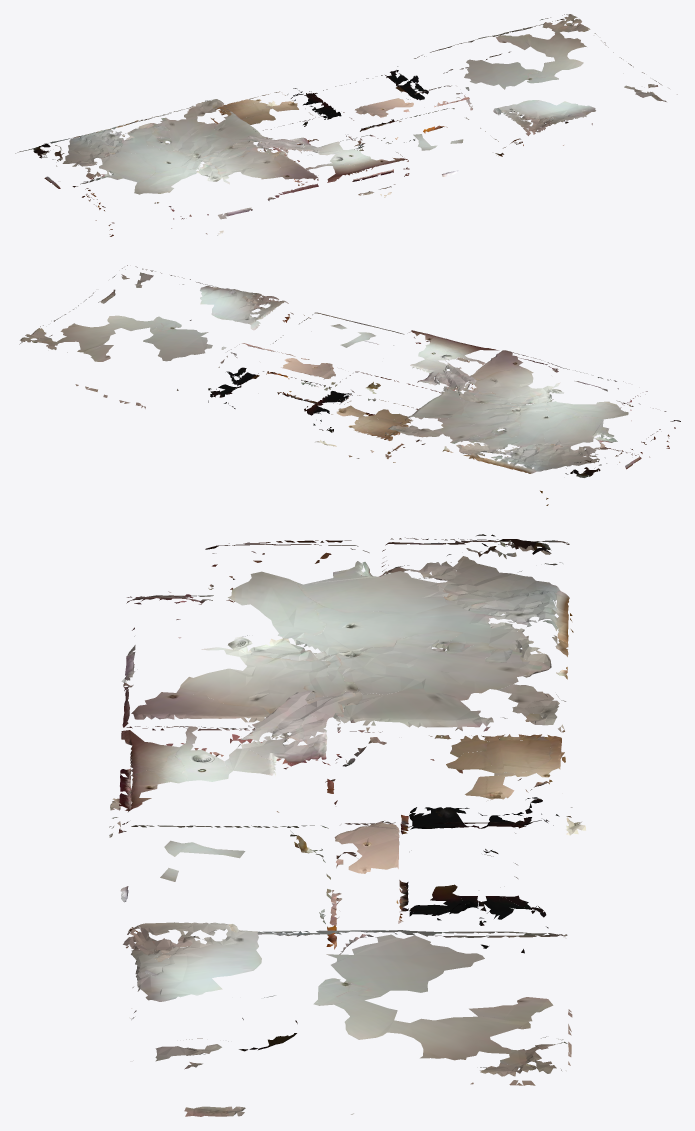
Rendered from esc_alta_techo_08.glb.
3 renders of one model, top to bottom at view 1: azimuth 30°, elevation 25°; view 2: azimuth 150°, elevation 25°; view 3: azimuth 270°, elevation 25°, orthographic. The views are drawn at different scales.
Parts seen in each view (by area): view 1: techo_Apartamento_y_bodega_8_GLTF_4, techo_Apartamento_y_bodega_8_GLTF_6, techo_Apartamento_y_bodega_8_GLTF_7, techo_Apartamento_y_bodega_8_GLTF, techo_Apartamento_y_bodega_8_GLTF_1, techo_Apartamento_y_bodega_8_GLTF_8, techo_Apartamento_y_bodega_8_GLTF_11, techo_Apartamento_y_bodega_8_GLTF_5, techo_Apartamento_y_bodega_8_GLTF_2, techo_Apartamento_y_bodega_8_GLTF_9, techo_Apartamento_y_bodega_8_GLTF_10, techo_Apartamento_y_bodega_8_GLTF_3; view 2: techo_Apartamento_y_bodega_8_GLTF_4, techo_Apartamento_y_bodega_8_GLTF_6, techo_Apartamento_y_bodega_8_GLTF, techo_Apartamento_y_bodega_8_GLTF_7, techo_Apartamento_y_bodega_8_GLTF_1, techo_Apartamento_y_bodega_8_GLTF_8, techo_Apartamento_y_bodega_8_GLTF_11, techo_Apartamento_y_bodega_8_GLTF_2, techo_Apartamento_y_bodega_8_GLTF_9, techo_Apartamento_y_bodega_8_GLTF_5, techo_Apartamento_y_bodega_8_GLTF_10, techo_Apartamento_y_bodega_8_GLTF_3; view 3: techo_Apartamento_y_bodega_8_GLTF_4, techo_Apartamento_y_bodega_8_GLTF_6, techo_Apartamento_y_bodega_8_GLTF_7, techo_Apartamento_y_bodega_8_GLTF_1, techo_Apartamento_y_bodega_8_GLTF, techo_Apartamento_y_bodega_8_GLTF_8, techo_Apartamento_y_bodega_8_GLTF_11, techo_Apartamento_y_bodega_8_GLTF_5, techo_Apartamento_y_bodega_8_GLTF_2, techo_Apartamento_y_bodega_8_GLTF_9, techo_Apartamento_y_bodega_8_GLTF_10, techo_Apartamento_y_bodega_8_GLTF_3.
Boxes of the visible parts, x1,y1,x2,y2 form: techo_Apartamento_y_bodega_8_GLTF_4: (62,44,657,215); techo_Apartamento_y_bodega_8_GLTF_6: (86,14,590,207); techo_Apartamento_y_bodega_8_GLTF_7: (18,32,592,228); techo_Apartamento_y_bodega_8_GLTF: (33,66,498,183); techo_Apartamento_y_bodega_8_GLTF_1: (42,23,571,188); techo_Apartamento_y_bodega_8_GLTF_8: (82,51,662,203); techo_Apartamento_y_bodega_8_GLTF_11: (41,14,669,234); techo_Apartamento_y_bodega_8_GLTF_5: (108,85,677,236); techo_Apartamento_y_bodega_8_GLTF_2: (83,93,542,185); techo_Apartamento_y_bodega_8_GLTF_9: (73,33,652,215); techo_Apartamento_y_bodega_8_GLTF_10: (55,73,654,220); techo_Apartamento_y_bodega_8_GLTF_3: (15,26,535,236); techo_Apartamento_y_bodega_8_GLTF_4: (64,274,623,474); techo_Apartamento_y_bodega_8_GLTF_6: (19,327,680,452); techo_Apartamento_y_bodega_8_GLTF: (208,312,617,477); techo_Apartamento_y_bodega_8_GLTF_7: (57,283,647,505); techo_Apartamento_y_bodega_8_GLTF_1: (33,290,641,469); techo_Apartamento_y_bodega_8_GLTF_8: (75,275,655,462); techo_Apartamento_y_bodega_8_GLTF_11: (20,272,679,472); techo_Apartamento_y_bodega_8_GLTF_2: (125,269,523,441); techo_Apartamento_y_bodega_8_GLTF_9: (40,268,653,473); techo_Apartamento_y_bodega_8_GLTF_5: (102,265,669,448); techo_Apartamento_y_bodega_8_GLTF_10: (49,296,649,473); techo_Apartamento_y_bodega_8_GLTF_3: (67,324,644,443); techo_Apartamento_y_bodega_8_GLTF_4: (127,556,567,1114); techo_Apartamento_y_bodega_8_GLTF_6: (124,544,585,1076); techo_Apartamento_y_bodega_8_GLTF_7: (118,562,573,1060); techo_Apartamento_y_bodega_8_GLTF_1: (145,534,567,1070); techo_Apartamento_y_bodega_8_GLTF: (120,535,550,944); techo_Apartamento_y_bodega_8_GLTF_8: (112,540,571,1111); techo_Apartamento_y_bodega_8_GLTF_11: (109,534,571,1085); techo_Apartamento_y_bodega_8_GLTF_5: (109,571,521,1116); techo_Apartamento_y_bodega_8_GLTF_2: (131,565,512,1046); techo_Apartamento_y_bodega_8_GLTF_9: (123,538,569,1067); techo_Apartamento_y_bodega_8_GLTF_10: (126,550,584,1116); techo_Apartamento_y_bodega_8_GLTF_3: (121,539,572,1046).
Bounding box in the file's own units: 17.55 × 1.18 × 6.49.
12 materials, 12 textured.
